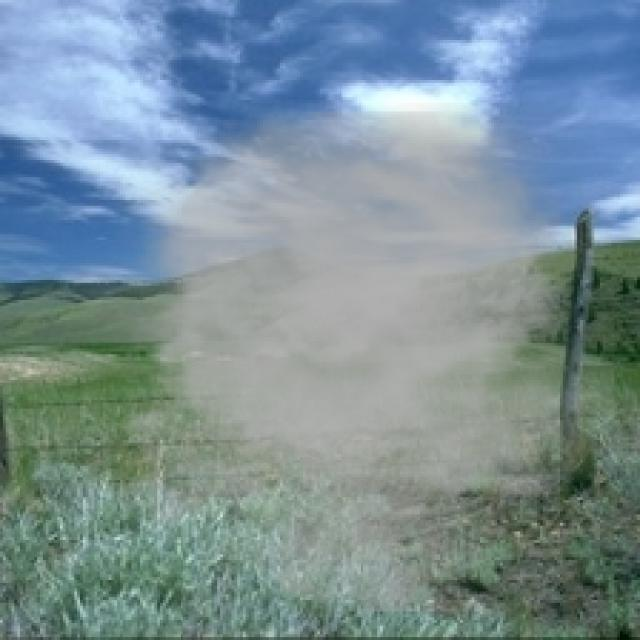smoke: (55, 80, 614, 611)
